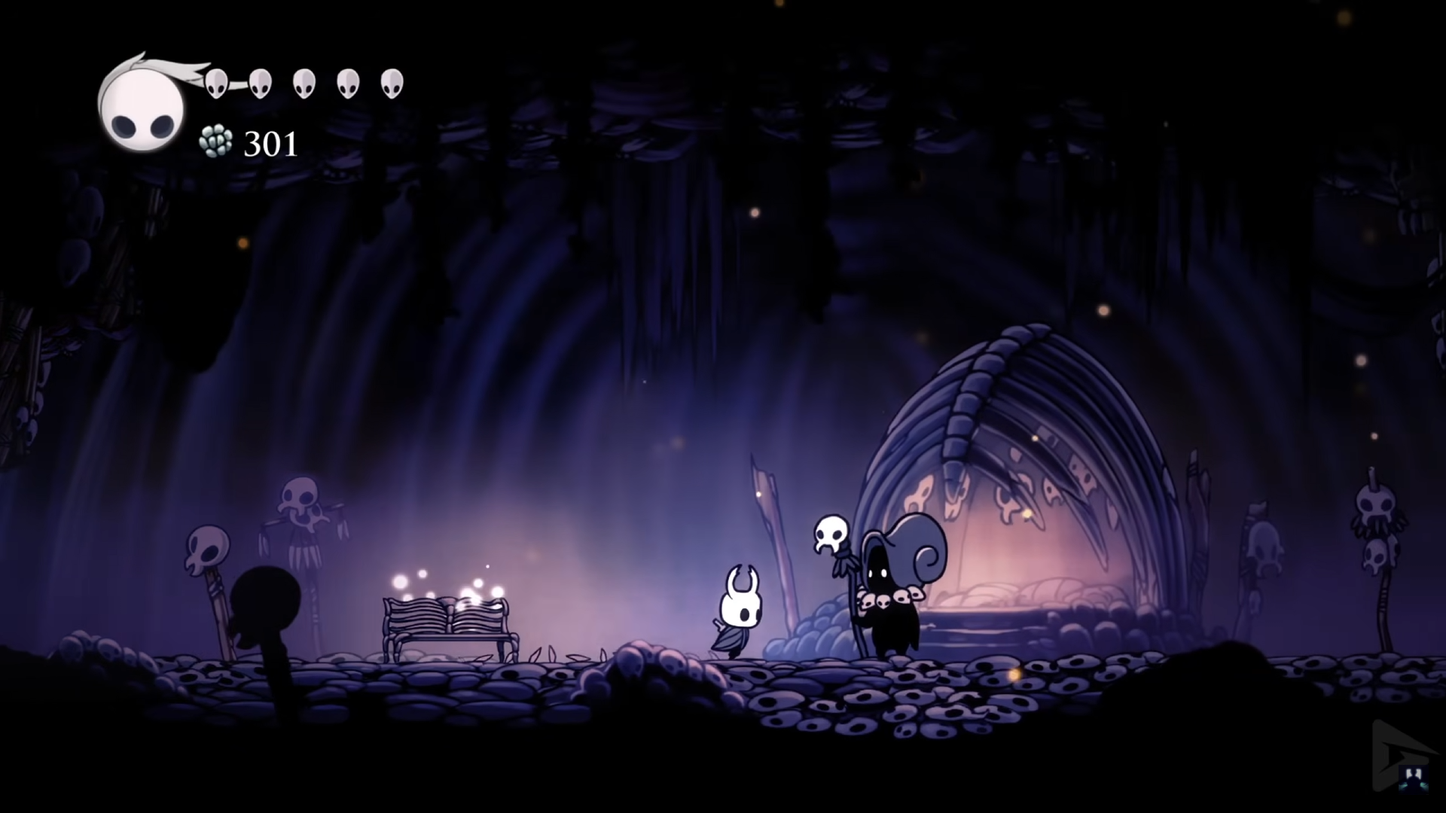HK: (707, 563, 768, 661)
